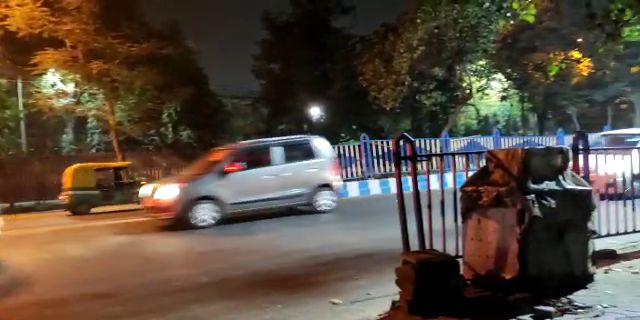Autorickshaw: (53, 157, 147, 223)
Car: (129, 133, 350, 229), (581, 115, 640, 204)
